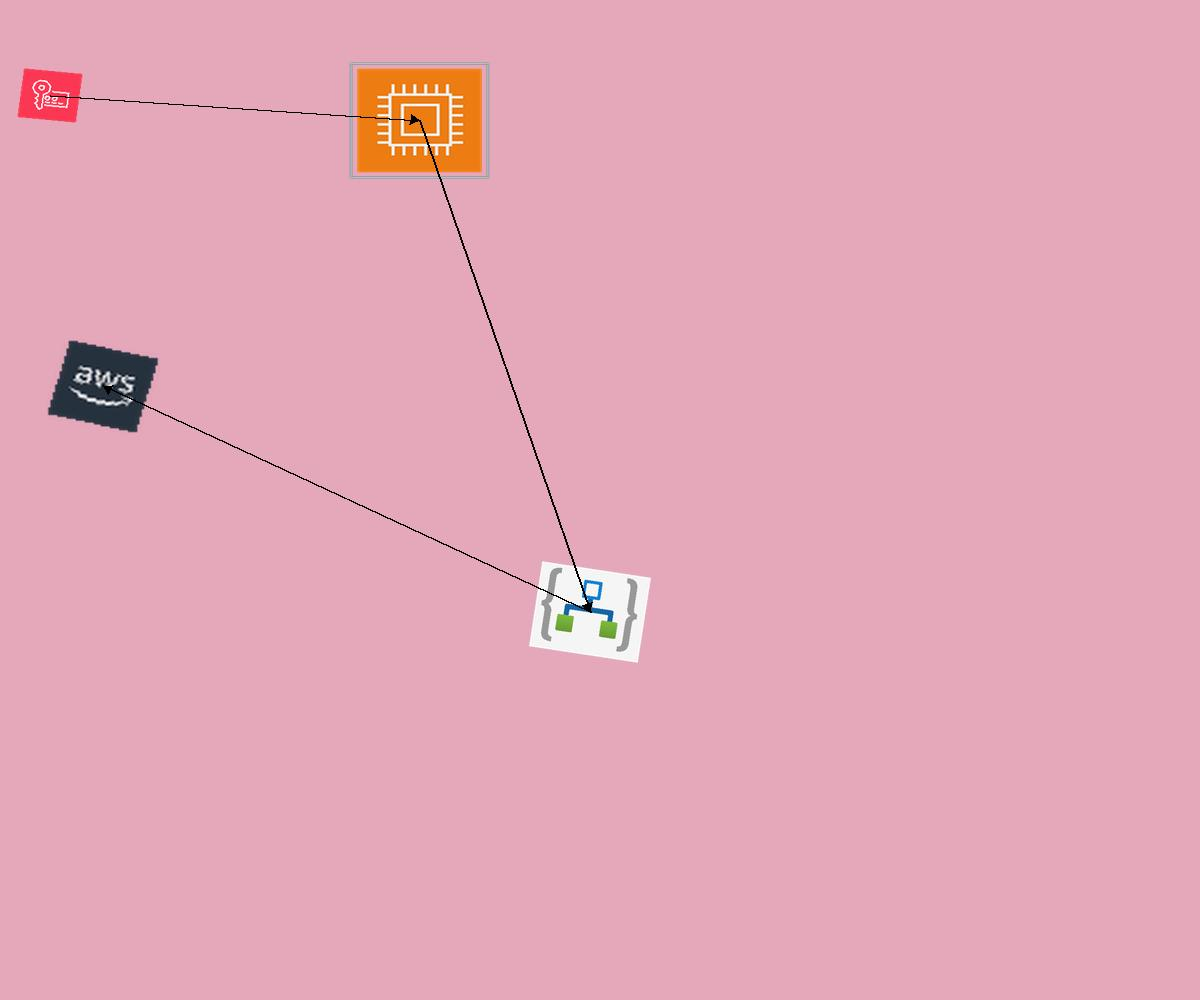AWS-Category_Compute: (348, 61, 491, 180)
AWS-Cloud-logo: (46, 339, 160, 434)
AWS-Key-Management-Service: (17, 68, 83, 123)
Azure_integration-204-Logic-Apps: (529, 561, 651, 663)
